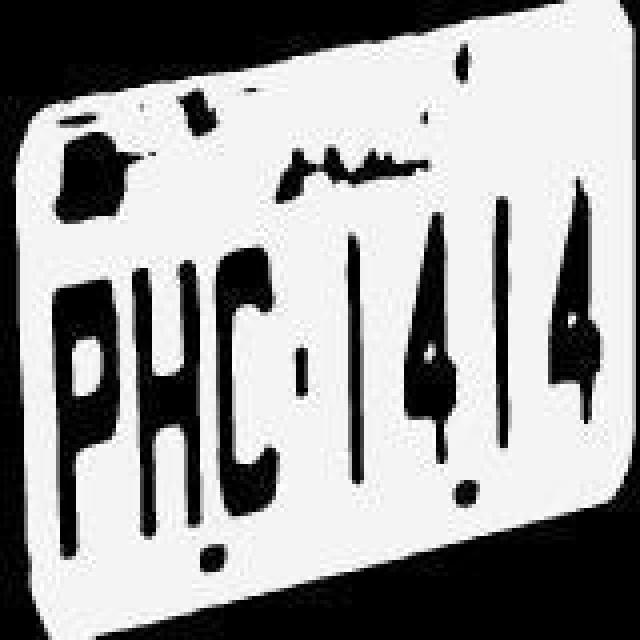1: (478, 182, 522, 458), (322, 232, 366, 504)
4: (534, 156, 610, 452), (386, 208, 462, 480)
C: (208, 244, 288, 524)
H: (128, 250, 208, 542)
P: (38, 268, 122, 564)
